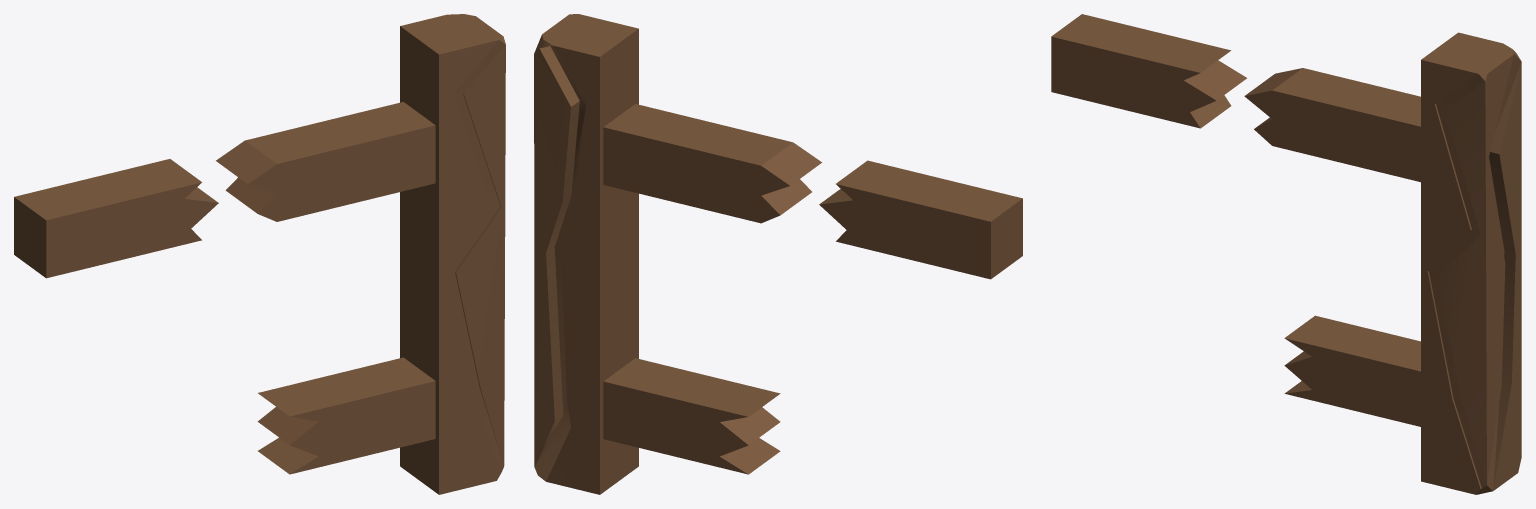
File: Valla rota coneccion.fbx
3 renders of one model, left to right at view 1: azimuth 30°, elevation 25°; view 2: azimuth 150°, elevation 25°; view 3: azimuth 330°, elevation 25°, orthographic. The views are drawn at different scales.
Parts seen in each view (by area): view 1: polySurface523; view 2: polySurface523; view 3: polySurface523.
Boxes of the visible parts, x1,y1,x2,y2 form: polySurface523: (14,14,505,494); polySurface523: (534,14,1022,494); polySurface523: (1051,14,1521,494).
Bounding box in the file's own units: 2.62 × 2.42 × 0.3883.
